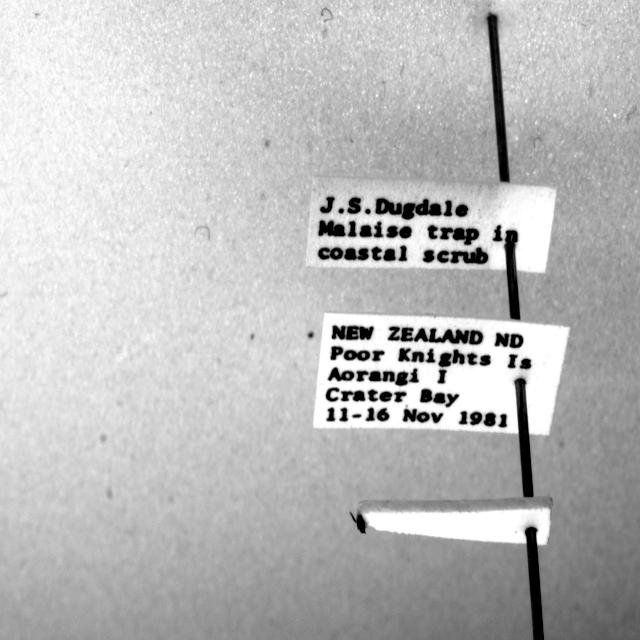typed_label: (314, 313, 569, 435), (306, 176, 556, 272)
